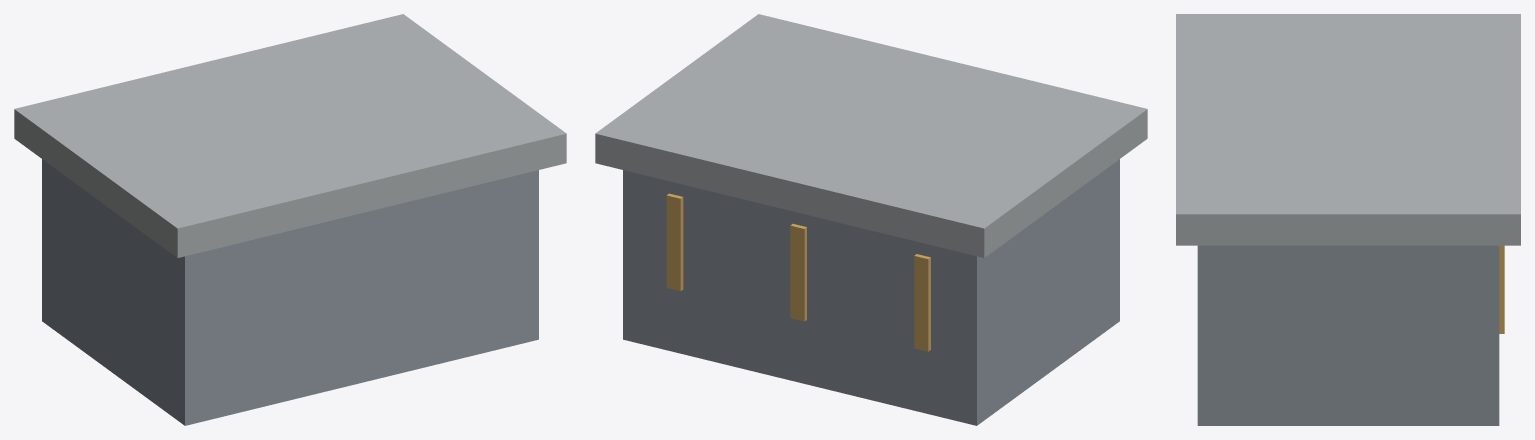
File: ruin_altar.glb
The picture shows the model from 3 angles, left to right: view 1: azimuth 30°, elevation 25°; view 2: azimuth 150°, elevation 25°; view 3: azimuth 270°, elevation 25°; orthographic projection. The views are drawn at different scales.
Parts seen in each view (by area): view 1: ruin_altar_Mesh; view 2: ruin_altar_Mesh; view 3: ruin_altar_Mesh.
Part boxes in pixels (x1,y1,x2,y2): ruin_altar_Mesh: (14, 14, 566, 425); ruin_altar_Mesh: (595, 14, 1147, 425); ruin_altar_Mesh: (1176, 14, 1520, 425).
Size of the model in its own units: 2.2 by 1.13 by 1.6.
